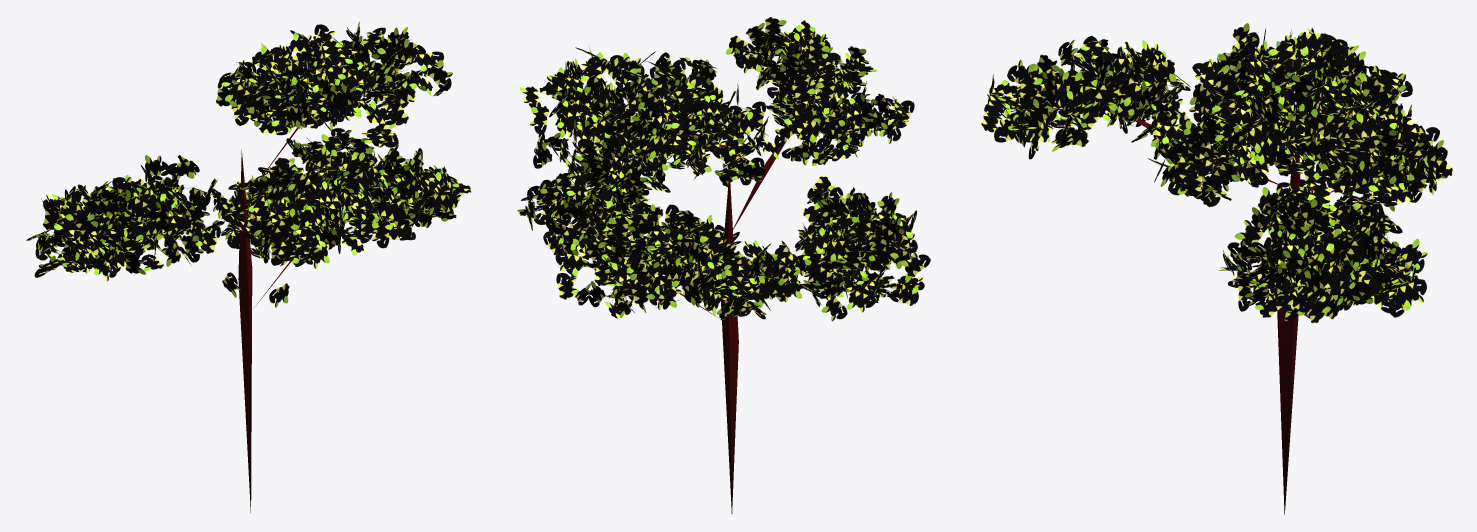
The model's file is acacia_flat_v01_LOD2.glb.
3 views of the same model, side by side, from view 1: azimuth 30°, elevation 25°; view 2: azimuth 150°, elevation 25°; view 3: azimuth 270°, elevation 25° (orthographic). The views are drawn at different scales.
Visible parts, largest first — view 1: acacia_flat_v01_LOD2; view 2: acacia_flat_v01_LOD2; view 3: acacia_flat_v01_LOD2.
Boxes of the visible parts, x1,y1,x2,y2 form: acacia_flat_v01_LOD2: (26, 22, 471, 512); acacia_flat_v01_LOD2: (517, 17, 930, 513); acacia_flat_v01_LOD2: (981, 23, 1453, 514).
Bounding box in the file's own units: 9.31 × 9.5 × 8.07.
Materials: 2 (2 with a texture image).
